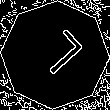L_SW: (26, 26, 84, 84)
